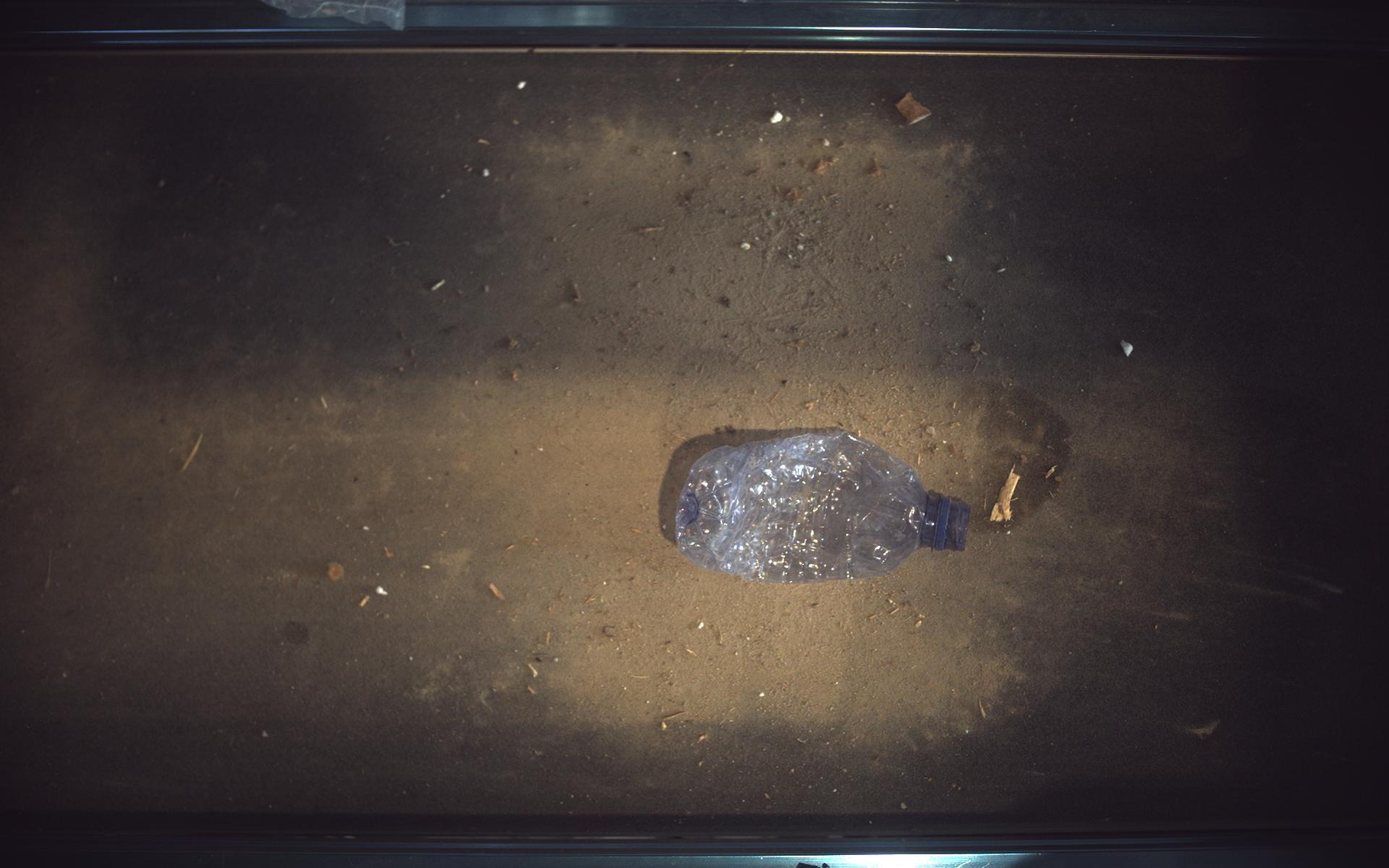general_w: (676, 431, 972, 583)
